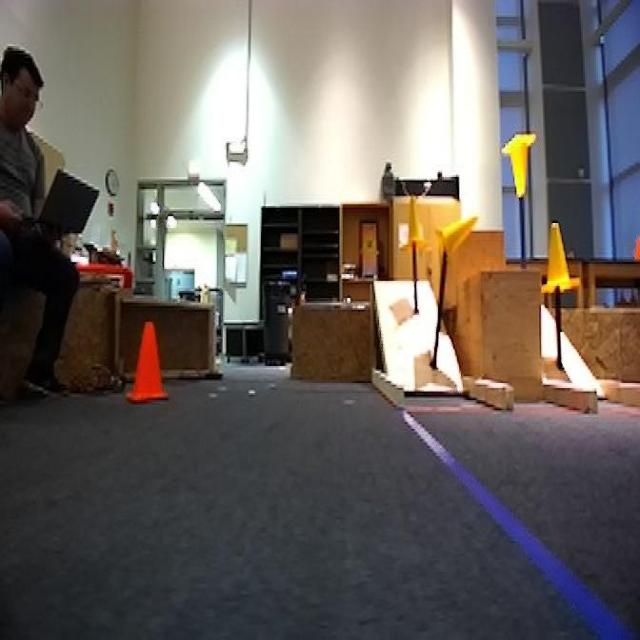frc_cone: (542, 224, 578, 300), (500, 131, 537, 199), (436, 220, 482, 269), (405, 191, 432, 252)
